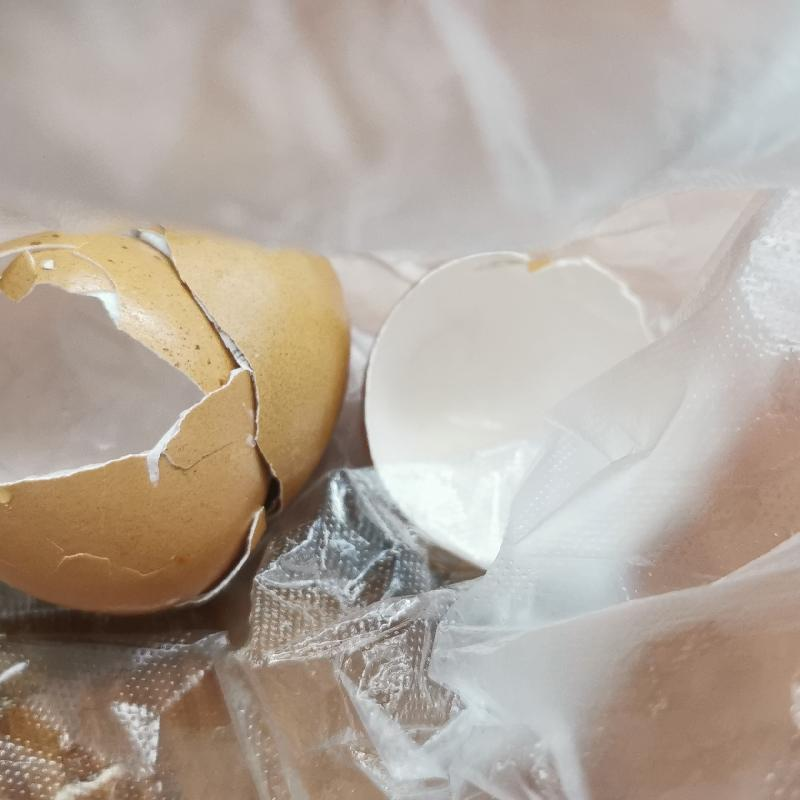eggshell: (6, 222, 358, 624), (366, 244, 680, 581)
